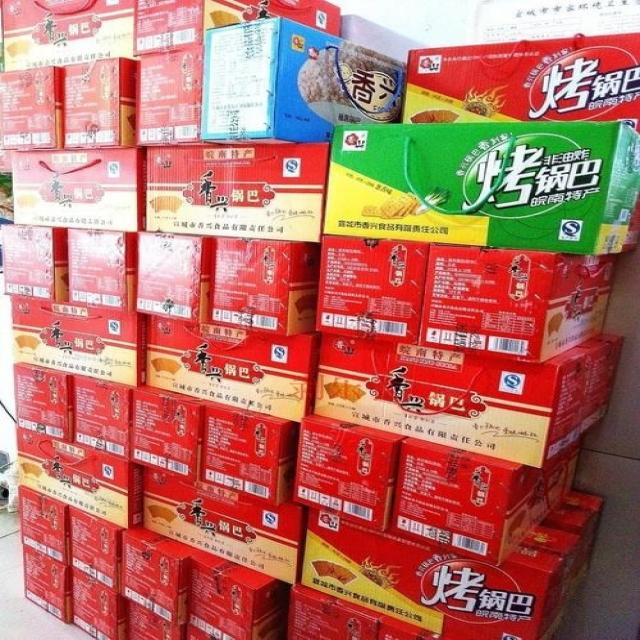box: (324, 120, 640, 255), (315, 332, 593, 468), (301, 507, 585, 640), (201, 15, 404, 144), (389, 433, 582, 566), (417, 241, 621, 364), (404, 33, 640, 134), (143, 469, 310, 586), (145, 143, 330, 242), (145, 316, 320, 420), (293, 413, 410, 533), (315, 235, 430, 346), (17, 429, 143, 530), (12, 299, 148, 388), (12, 148, 147, 233), (207, 238, 321, 336), (202, 404, 298, 507), (129, 385, 216, 484), (122, 530, 200, 640), (184, 550, 276, 640), (133, 232, 215, 325), (544, 491, 607, 604), (69, 507, 122, 640), (20, 486, 69, 624), (134, 45, 201, 144), (63, 58, 133, 149), (67, 228, 137, 312), (288, 584, 385, 640), (1, 225, 67, 304), (575, 332, 625, 432), (14, 363, 74, 443), (73, 376, 131, 458)
